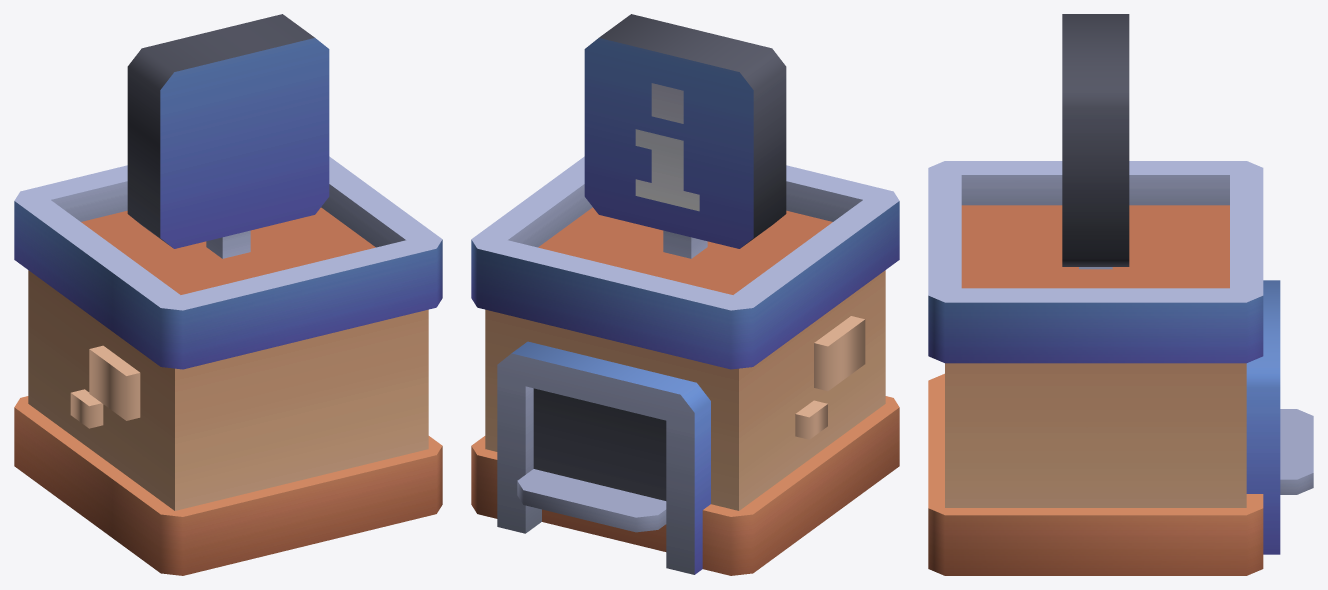
The model's file is k-coaster-stall-information.glb.
3 renders of one model, left to right at view 1: azimuth 30°, elevation 25°; view 2: azimuth 150°, elevation 25°; view 3: azimuth 270°, elevation 25°, orthographic. The views are drawn at different scales.
Parts seen in each view (by area): view 1: stall-information; view 2: stall-information; view 3: stall-information.
Part boxes in pixels (<box>): stall-information: <box>14,14,442,575</box>; stall-information: <box>471,14,899,575</box>; stall-information: <box>928,14,1313,575</box>.
Bounding box in the file's own units: 1 × 1.5 × 1.15.
Materials: 1 (1 with a texture image).
